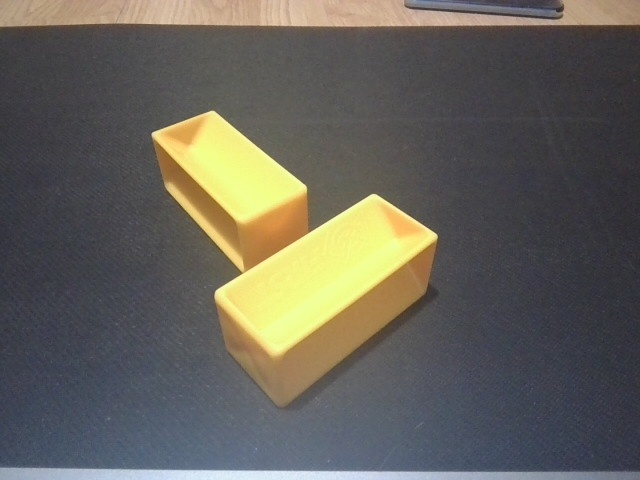YellowSample: (210, 189, 442, 411), (148, 107, 315, 278)
